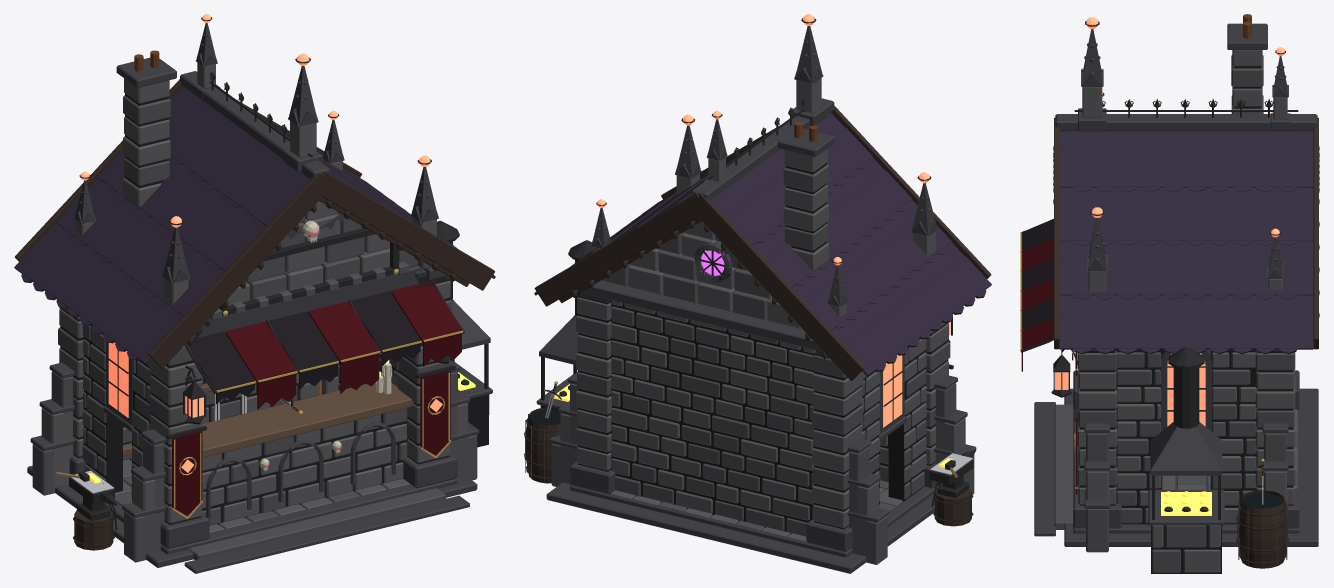
File: wc-shop-weapons.glb
3 views of the same model, side by side, from view 1: azimuth 30°, elevation 25°; view 2: azimuth 150°, elevation 25°; view 3: azimuth 270°, elevation 25° (orthographic). The views are drawn at different scales.
Visible parts, largest first — view 1: Banner35__BlackIron__39_39_41; view 2: Banner35__BlackIron__39_39_41; view 3: Banner35__BlackIron__39_39_41.
Boxes of the visible parts, x1,y1,x2,y2 form: Banner35__BlackIron__39_39_41: (14, 14, 495, 573); Banner35__BlackIron__39_39_41: (524, 14, 991, 573); Banner35__BlackIron__39_39_41: (1020, 14, 1319, 573).
Bounding box in the file's own units: 1.89 × 2 × 1.2.
